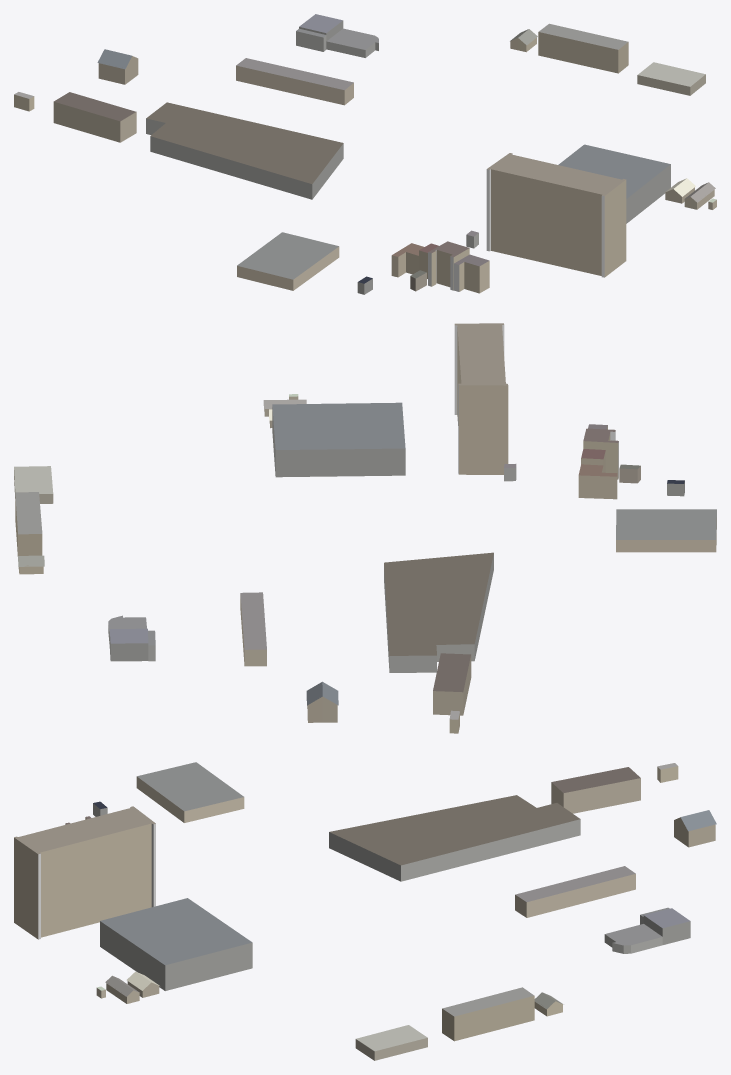
3 renders of one model, top to bottom at view 1: azimuth 30°, elevation 25°; view 2: azimuth 150°, elevation 25°; view 3: azimuth 270°, elevation 25°, orthographic. The views are drawn at different scales.
Parts seen in each view (by area): view 1: tuile; view 2: tuile; view 3: tuile.
Boxes of the visible parts, x1,y1,x2,y2 form: tuile: [14, 14, 716, 294]; tuile: [14, 323, 716, 733]; tuile: [14, 762, 716, 1060].
Size of the model in its own units: 259 by 36.47 by 272.
